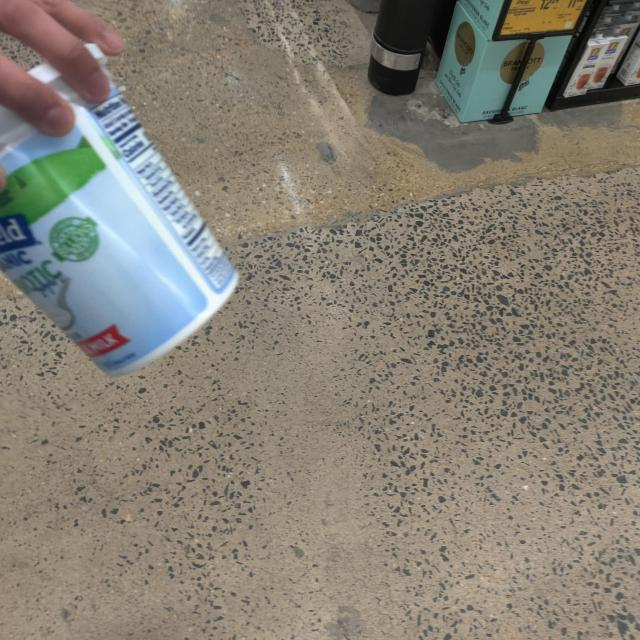Yogurt: (0, 47, 242, 373)
